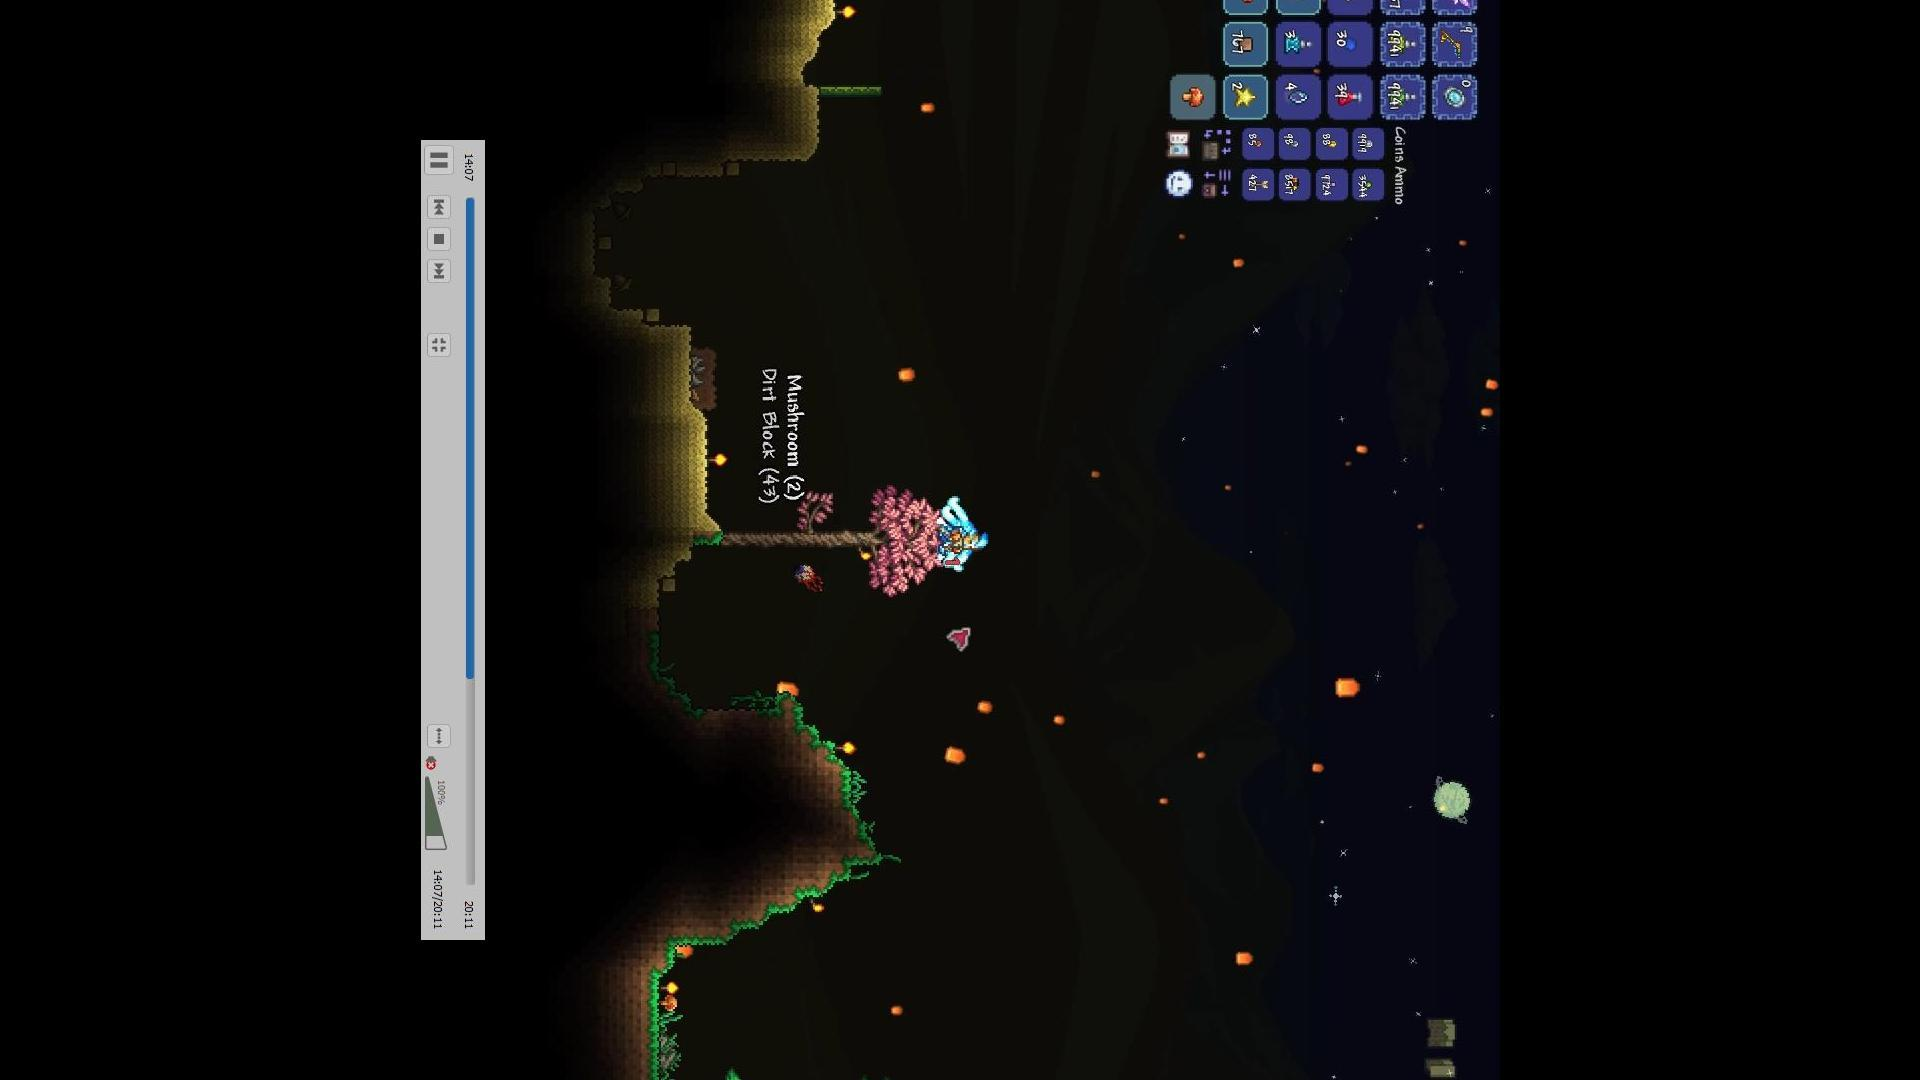eye: (790, 559, 832, 595)
mirror: (1439, 83, 1466, 109)
star: (1232, 84, 1255, 109)
